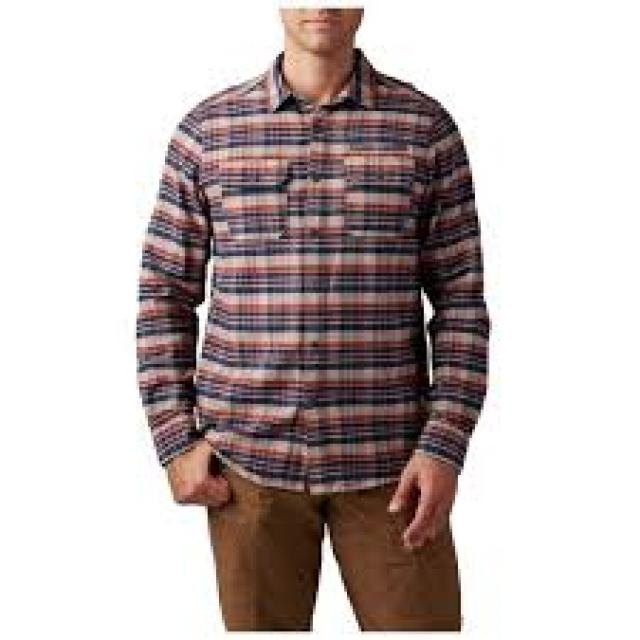plaid: (130, 49, 493, 496)
